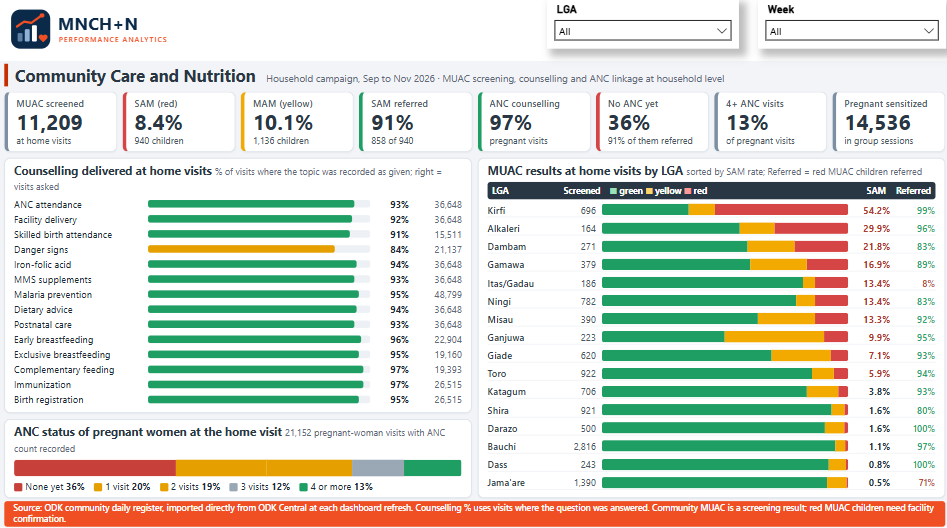

This screenshot's page, from the dashboard's own definition file:
{"tool":"powerbi","page":{"name":"Community Outreach","canvas":[1280,720],"ordinal":8},"visuals":[{"type":"htmlContent443BE3AD55E043BF878BED274D3A6855","fields":{"content":["KPI Targets.P COM Page"]},"box":[0,84,1280,635.9],"z":0},{"type":"slicer","fields":{"Values":["Factility.LGA"]},"box":[751.2,6.2,255,66.2],"z":2000},{"type":"slicer","fields":{"Values":["Comm Calendar.Week"]},"box":[1021.5,9.3,249.7,66.4],"z":4000},{"type":"htmlContent443BE3AD55E043BF878BED274D3A6855","fields":{"content":["KPI Targets.Brand Logo SVG"]},"box":[14,12,245,60],"z":4001}]}

Visuals, with their boxes in screenshot pixels (x1, y1, x2, y2), scaled from the page's 1280x720 canvas onto the 947x528 screenshot:
htmlContent443BE3AD55E043BF878BED274D3A6855 - KPI Targets.P COM Page: 0:62:946:527
slicer - Factility.LGA: 556:5:744:53
slicer - Comm Calendar.Week: 756:7:940:56
htmlContent443BE3AD55E043BF878BED274D3A6855 - KPI Targets.Brand Logo SVG: 10:9:192:53
